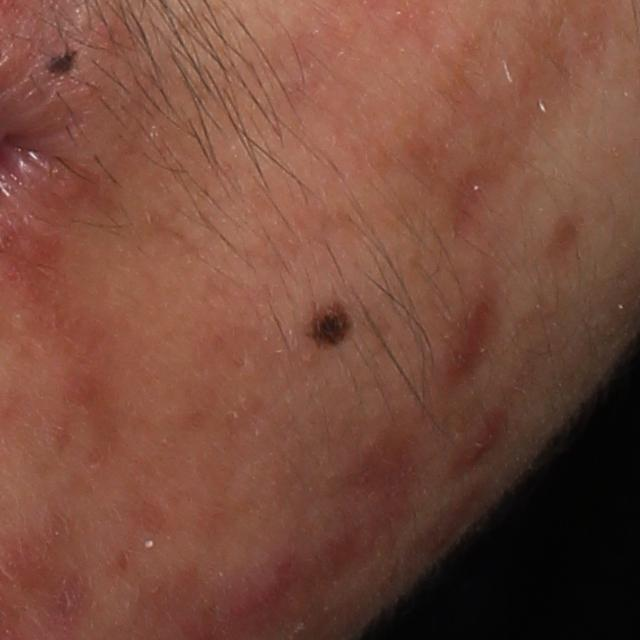nevus: (308, 294, 354, 353), (43, 46, 81, 79)
papule: (466, 419, 504, 464)
